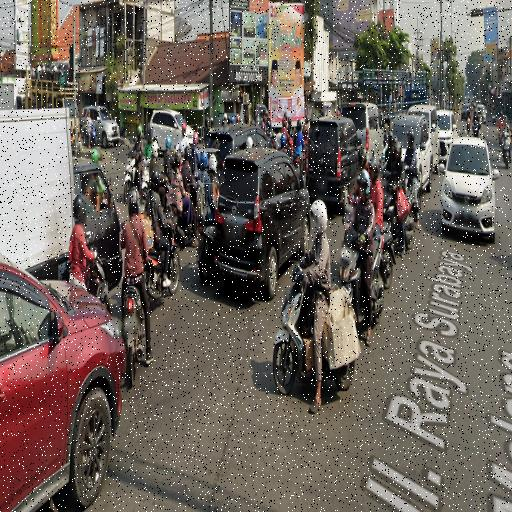Helmet: (311, 200, 327, 234), (73, 195, 86, 223), (128, 188, 140, 216), (358, 170, 370, 195), (151, 168, 161, 190), (369, 159, 380, 179), (209, 154, 217, 173), (175, 150, 182, 168), (184, 146, 191, 162), (92, 149, 99, 164), (395, 142, 402, 157), (152, 141, 158, 158), (201, 152, 207, 169), (246, 136, 254, 148), (361, 147, 366, 166), (275, 135, 281, 149), (166, 136, 172, 150), (407, 129, 414, 141), (296, 120, 302, 132), (137, 125, 142, 139), (391, 136, 398, 146), (193, 132, 198, 145), (148, 128, 153, 141), (281, 134, 286, 147), (388, 130, 393, 142), (384, 133, 389, 145), (262, 110, 268, 117), (205, 118, 209, 127), (256, 116, 260, 125), (282, 118, 286, 127), (231, 116, 235, 124), (305, 116, 309, 124), (182, 123, 186, 131), (210, 118, 213, 127), (237, 115, 240, 122), (227, 117, 230, 124), (288, 117, 291, 124), (224, 113, 227, 120), (337, 110, 340, 116)
Motor: (273, 265, 315, 394), (144, 224, 180, 305), (340, 218, 363, 322), (123, 286, 145, 389), (167, 195, 194, 248), (86, 257, 111, 313), (383, 172, 400, 250), (197, 223, 216, 283), (124, 148, 137, 202), (82, 120, 98, 148), (502, 131, 510, 169), (293, 153, 305, 176), (90, 122, 98, 148), (472, 121, 480, 137), (467, 116, 471, 134), (498, 128, 501, 147), (492, 114, 496, 126), (374, 238, 377, 242)
